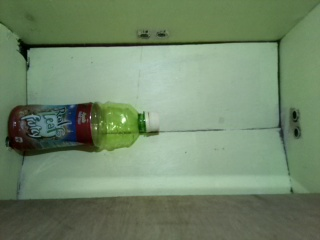bottle: (7, 101, 162, 153)
